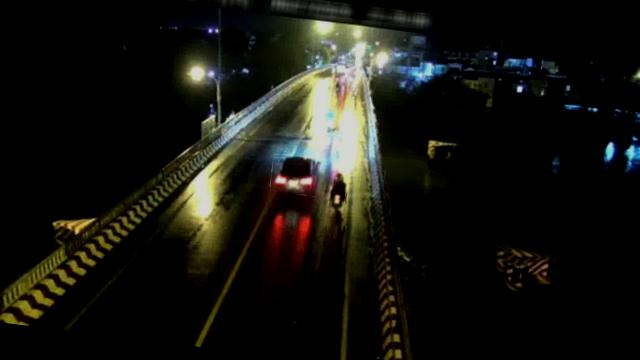Bike: (328, 172, 349, 212)
Car: (269, 153, 320, 197)
